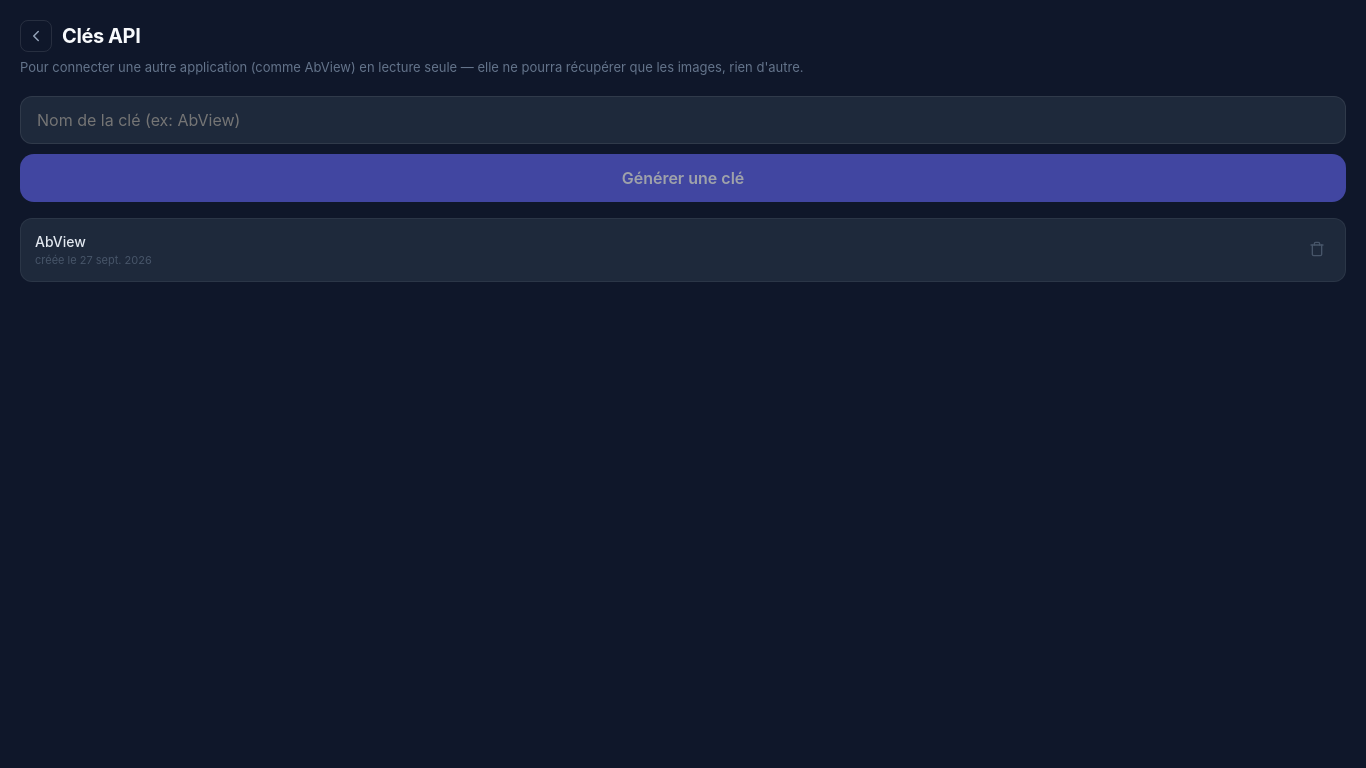
Test: SettingsView › closes the revoke confirmation when clicking the backdrop itself
Click the button titled "Révoquer".
click(1317, 250)  # box top-left (1303, 235), bottom-right (1331, 265)
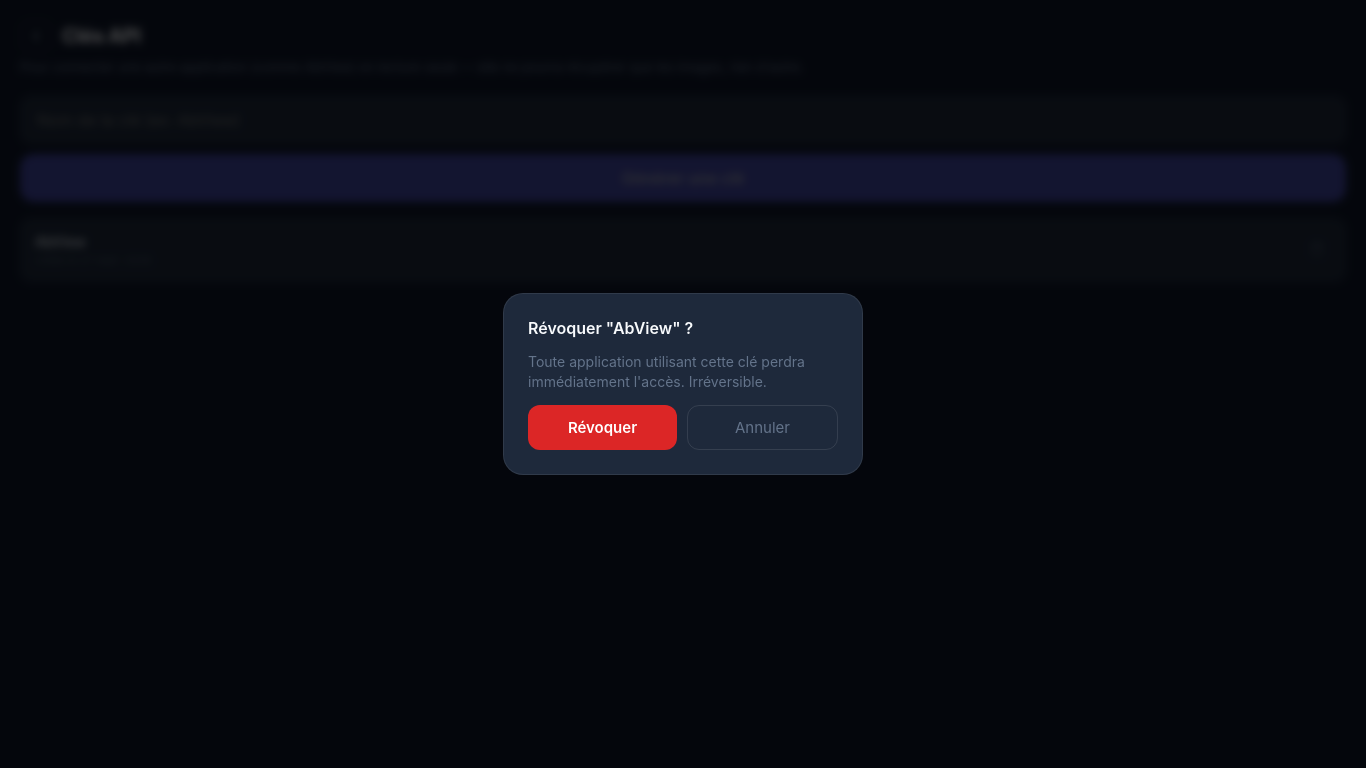
Click the element with class "dialog-overlay".
click(82, 384)  # box top-left (0, 0), bottom-right (1365, 767)
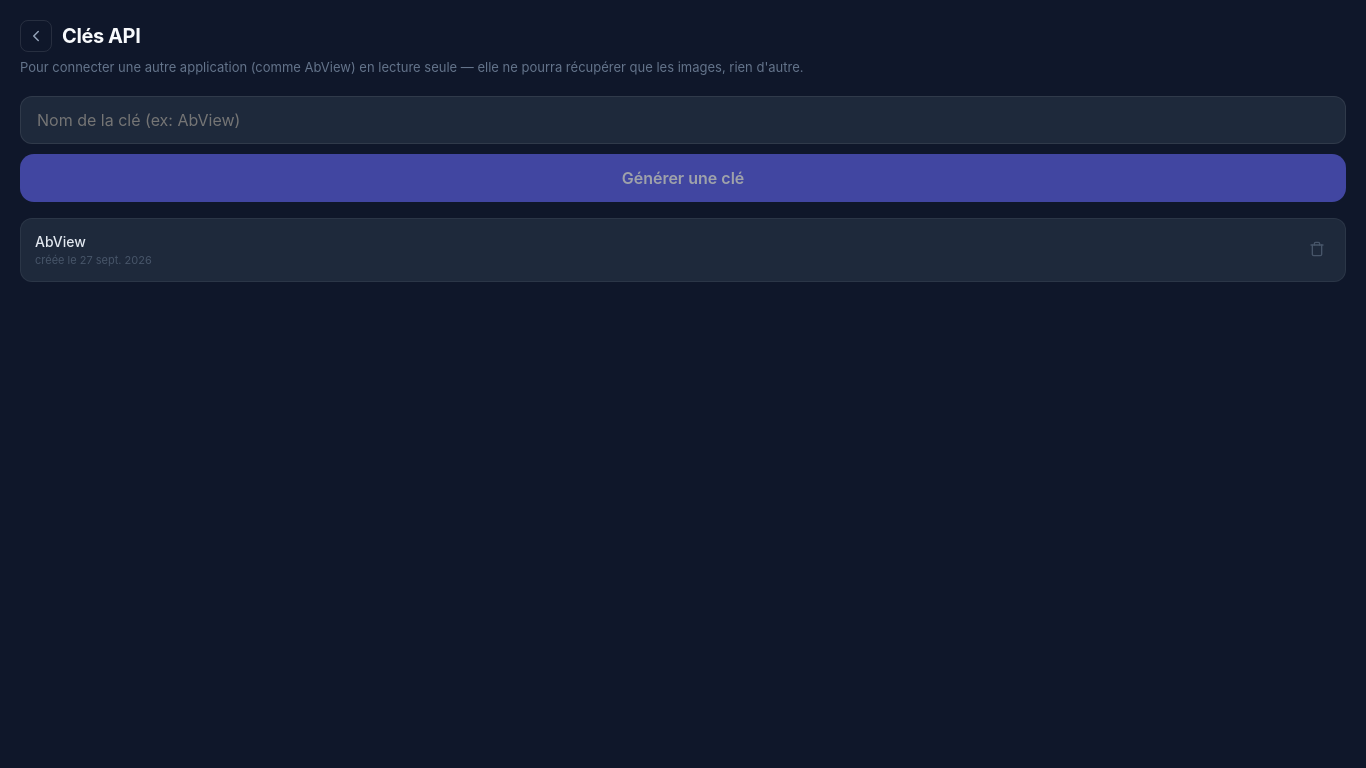
Now the element with class "dialog-overlay" is gone
